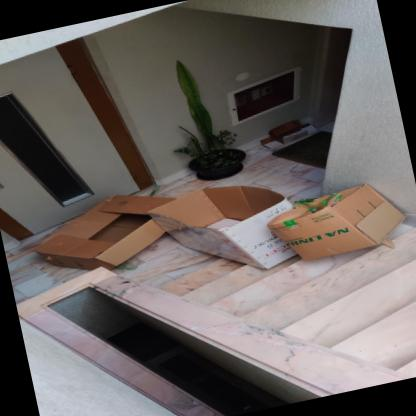Paper: (146, 185, 297, 268), (32, 194, 176, 270), (266, 183, 406, 260), (260, 120, 318, 148)
